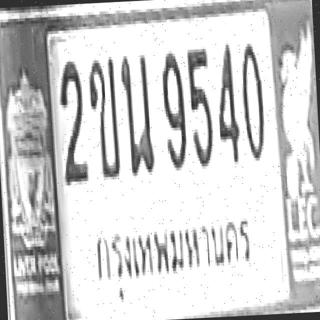A02: (86, 54, 120, 178)
A25: (118, 51, 154, 175)
N00: (239, 40, 267, 161)
N02: (58, 61, 88, 182)
N04: (213, 42, 241, 163)
N05: (186, 46, 213, 167)
N09: (158, 49, 188, 170)
P04: (86, 202, 256, 300)
